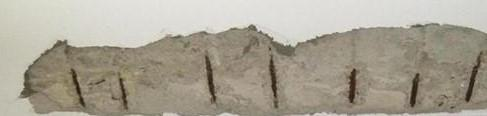Exposed reinforcement: (464, 51, 483, 104), (69, 67, 87, 108), (204, 55, 217, 104), (117, 70, 130, 110), (408, 72, 420, 109), (268, 54, 278, 98), (347, 67, 357, 104)
Spalling: (18, 22, 487, 116)
